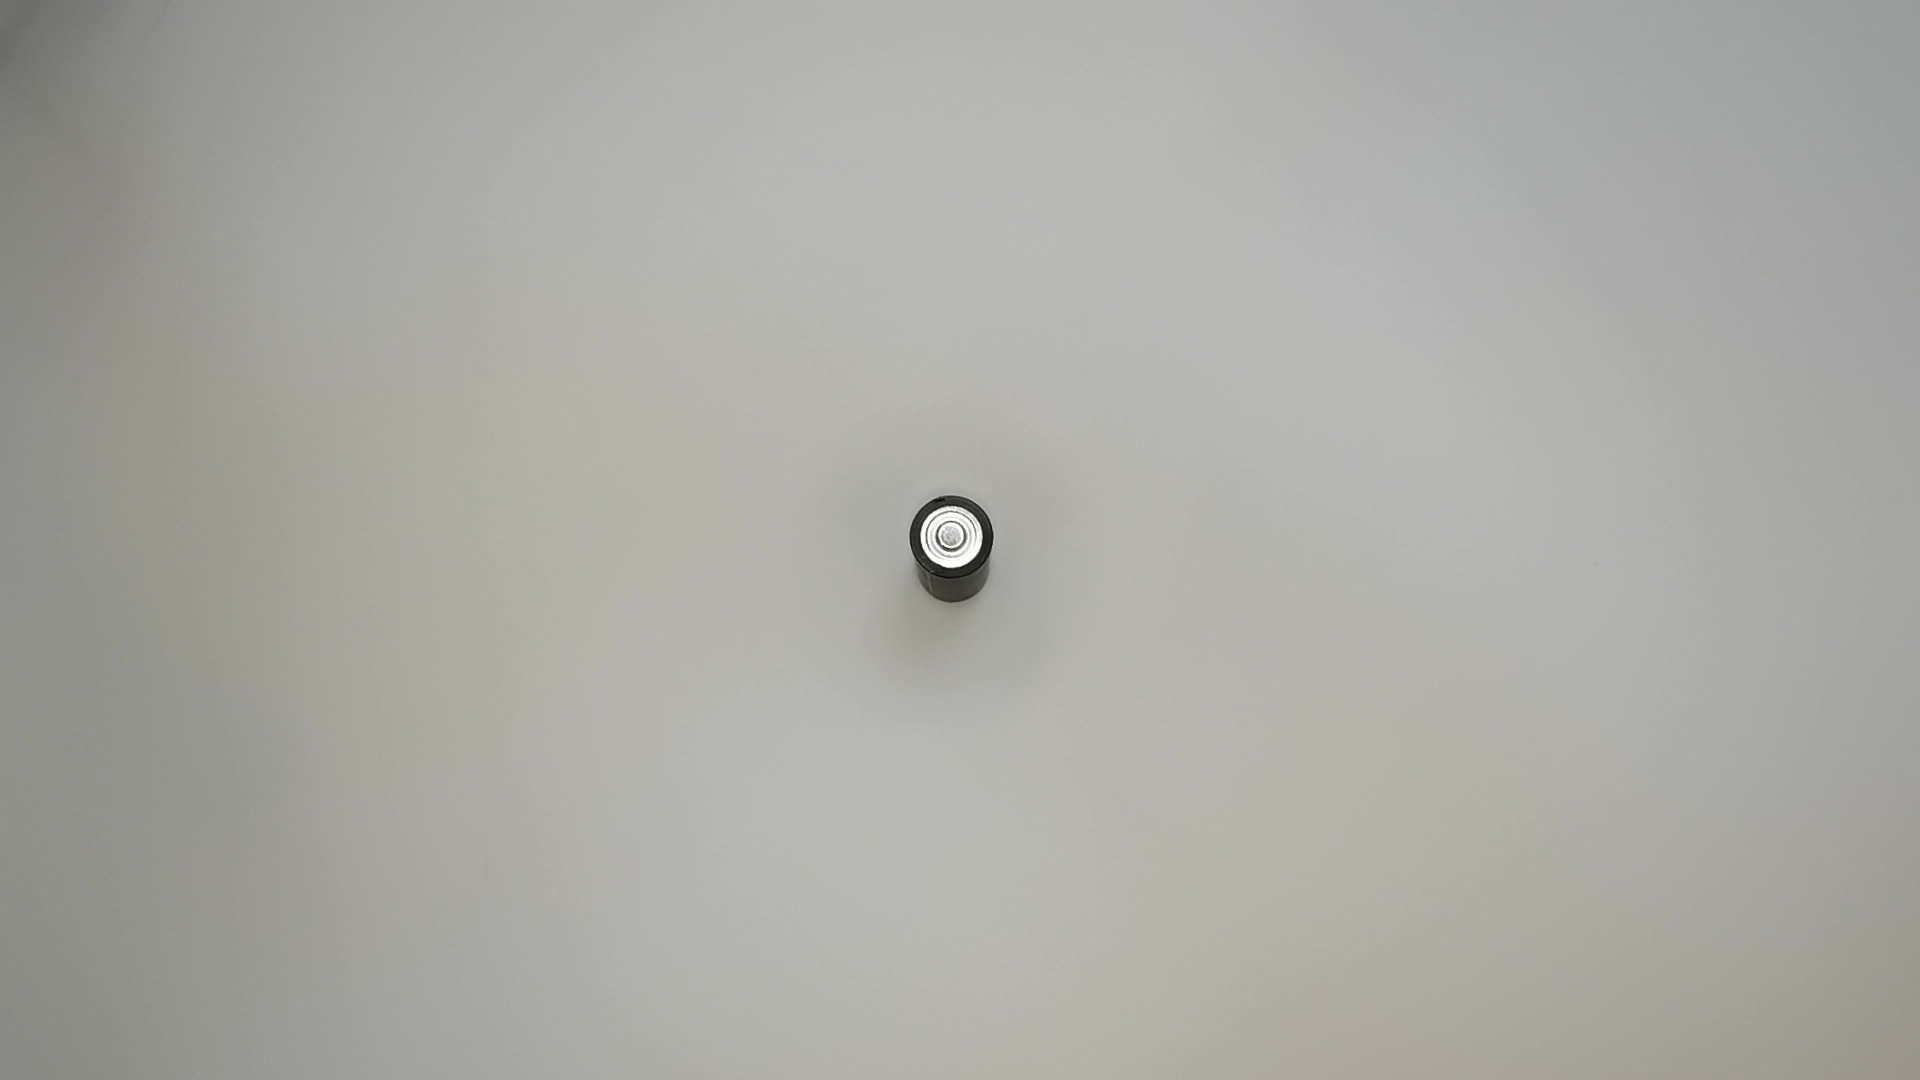battery: (903, 491, 1011, 613)
